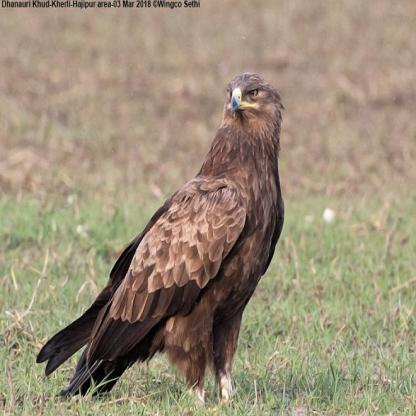Burung: (36, 74, 283, 399)
